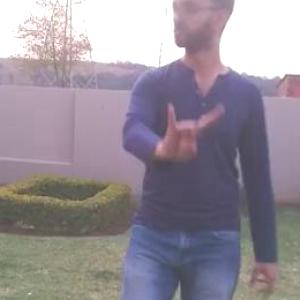takeoff-hand: (157, 95, 232, 172)
